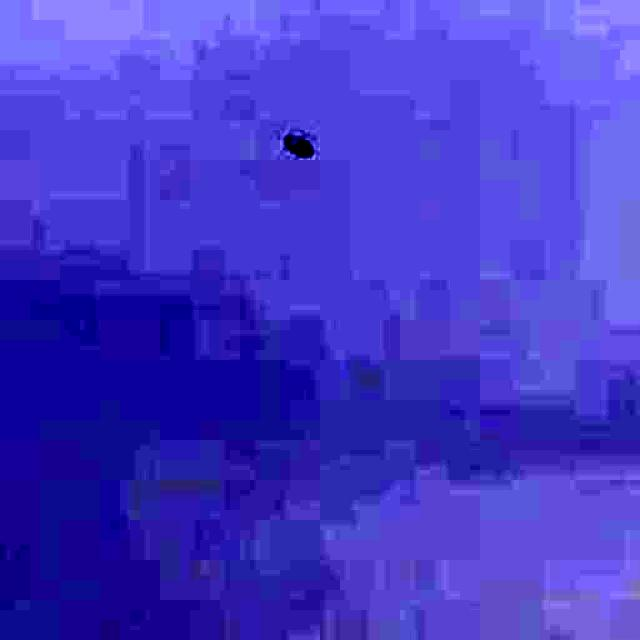drone: (269, 121, 329, 171)
